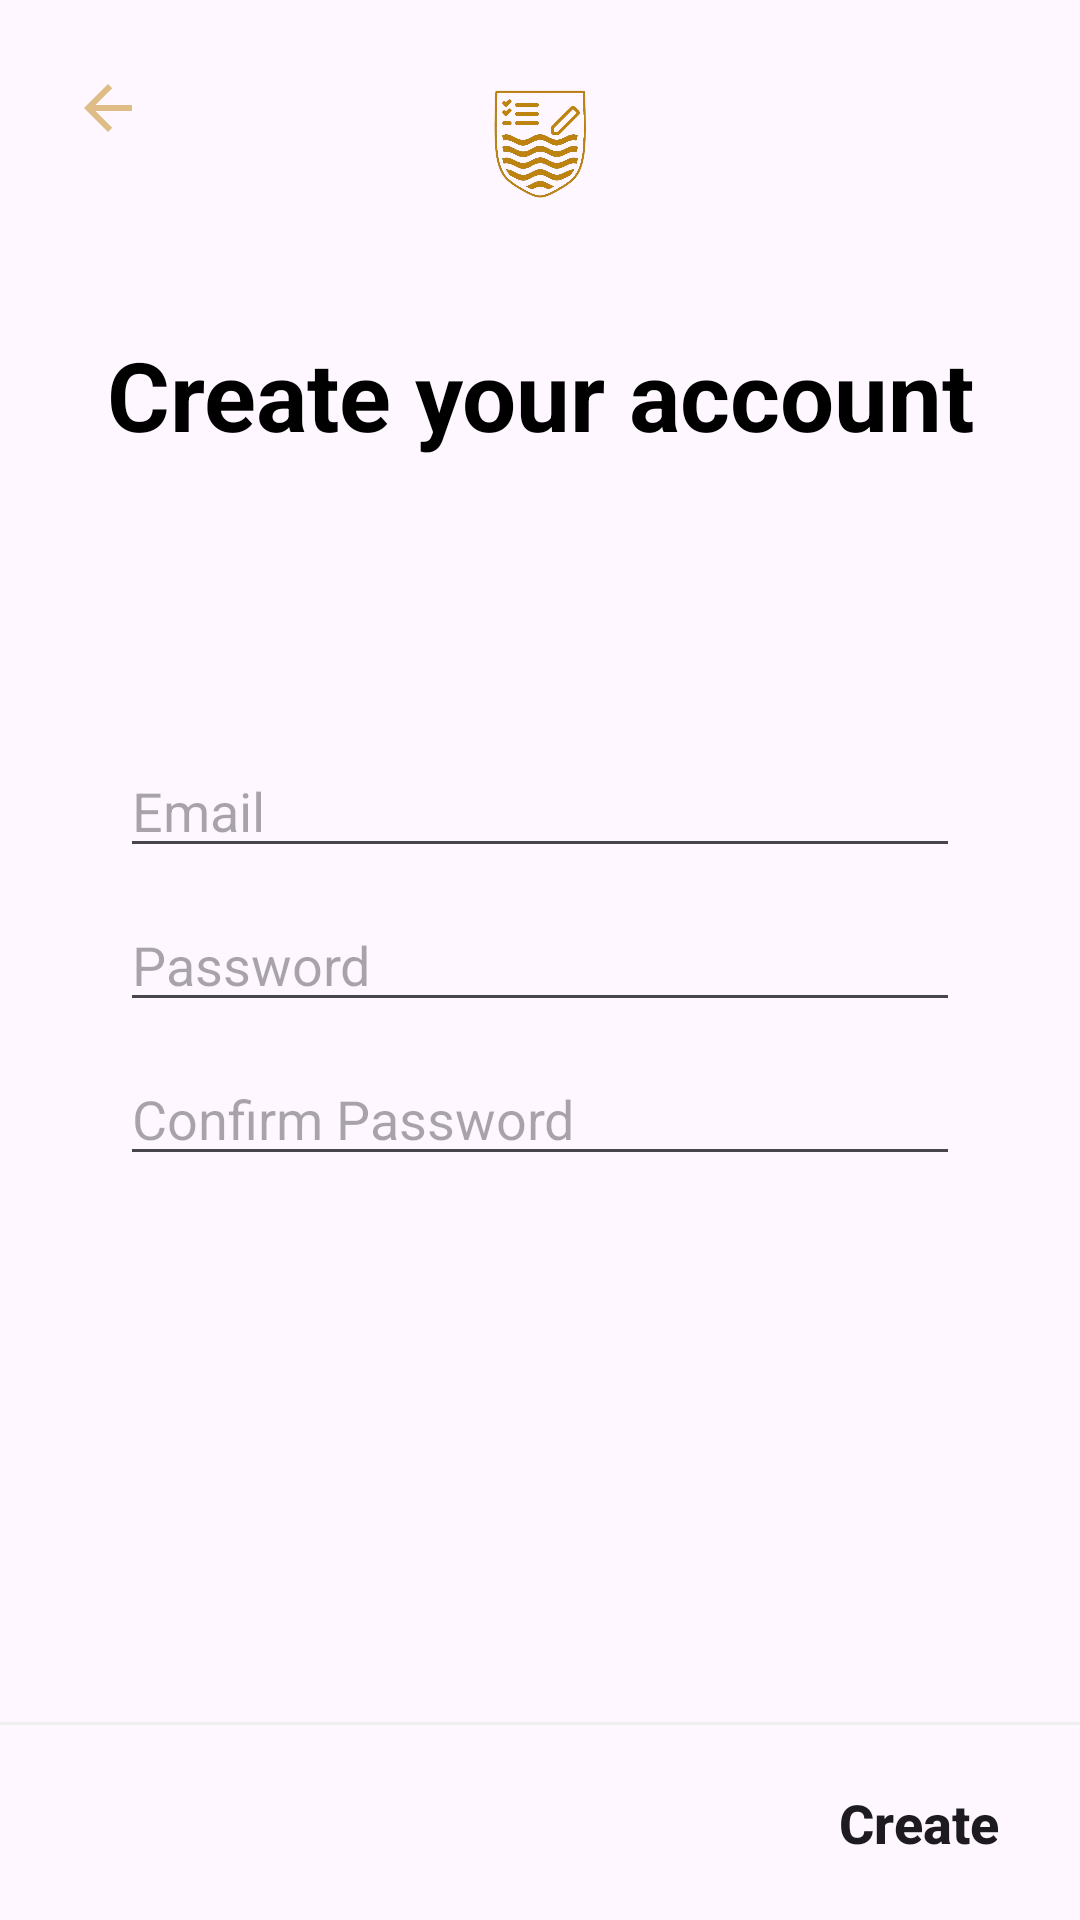

Screen size 1080 × 1920. Icon name, then its box in pixels as BBox(x1, y1, x2, y2):
Back Button: BBox(84, 84, 132, 132)
